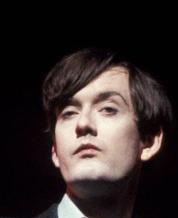face: (60, 101, 121, 159)
